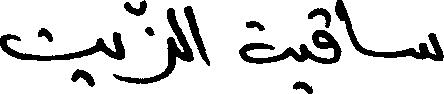X: (0, 23, 101, 91), (125, 0, 174, 88), (241, 16, 289, 68), (338, 0, 362, 65), (315, 0, 336, 68), (188, 1, 207, 69), (411, 28, 443, 65), (176, 2, 186, 65), (301, 9, 308, 93), (114, 27, 123, 85)
